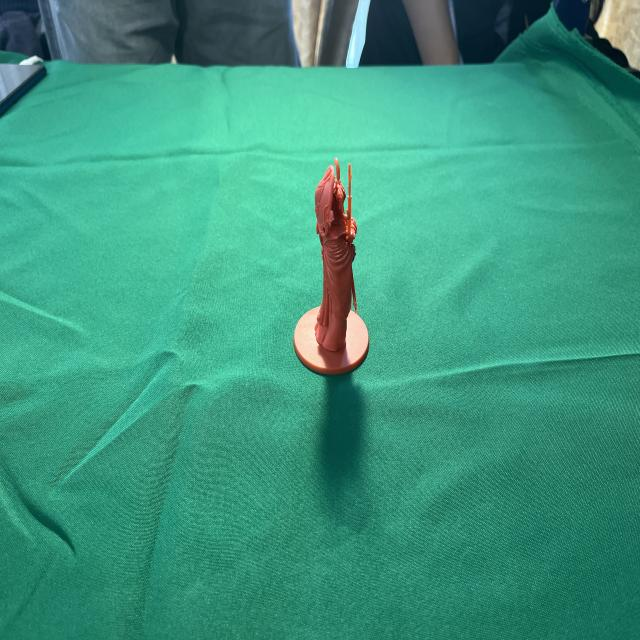amon: (290, 148, 373, 380)
